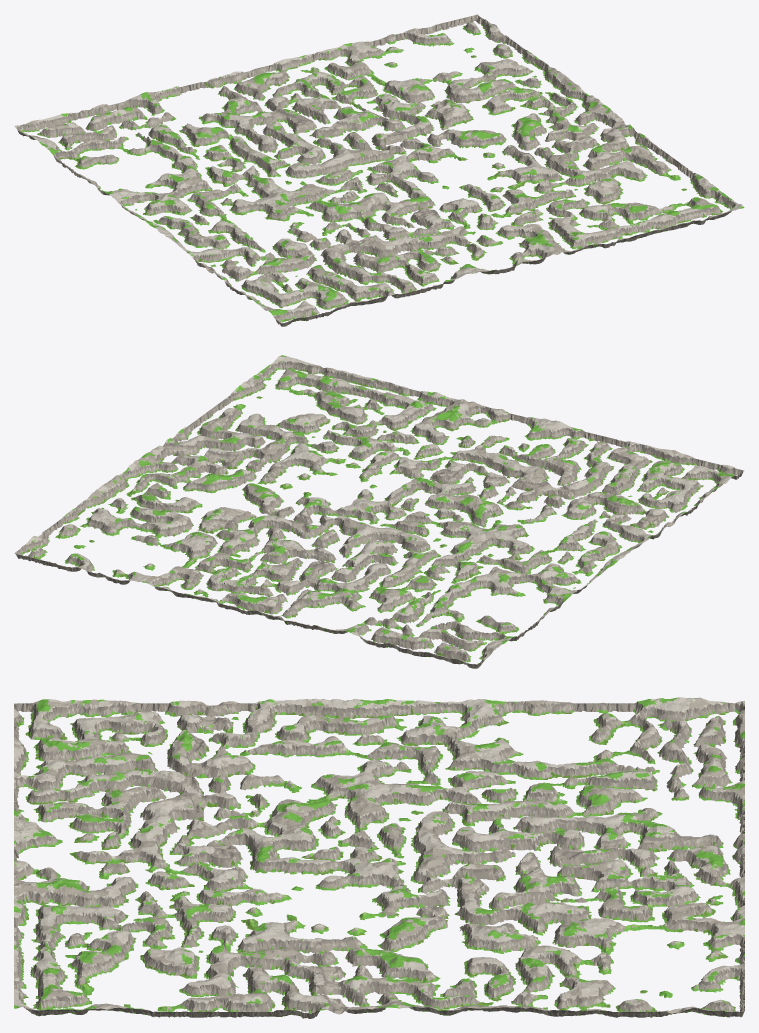
The model's file is Dungeon-2B-Relief.fbx.
The picture shows the model from 3 angles, top to bottom: view 1: azimuth 30°, elevation 25°; view 2: azimuth 150°, elevation 25°; view 3: azimuth 270°, elevation 25°; orthographic projection. The views are drawn at different scales.
Parts seen in each view (by area): view 1: Dungeon-2B-Relief-c72, Dungeon-2B-Relief-c60, Dungeon-2B-Relief-c74, Dungeon-2B-Relief-c31, Dungeon-2B-Relief-c10, Dungeon-2B-Relief-c44, Dungeon-2B-Relief-c21, Dungeon-2B-Relief-c34, Dungeon-2B-Relief-c17, Dungeon-2B-Relief-c47, Dungeon-2B-Relief-c32, Dungeon-2B-Relief-c55 (+50 smaller); view 2: Dungeon-2B-Relief-c73, Dungeon-2B-Relief-c70, Dungeon-2B-Relief-c00, Dungeon-2B-Relief-c60, Dungeon-2B-Relief-c74, Dungeon-2B-Relief-c10, Dungeon-2B-Relief-c63, Dungeon-2B-Relief-c11, Dungeon-2B-Relief-c55, Dungeon-2B-Relief-c44, Dungeon-2B-Relief-c72, Dungeon-2B-Relief-c56 (+51 smaller); view 3: Dungeon-2B-Relief-c36, Dungeon-2B-Relief-c03, Dungeon-2B-Relief-c72, Dungeon-2B-Relief-c10, Dungeon-2B-Relief-c07, Dungeon-2B-Relief-c01, Dungeon-2B-Relief-c32, Dungeon-2B-Relief-c04, Dungeon-2B-Relief-c35, Dungeon-2B-Relief-c02, Dungeon-2B-Relief-c21, Dungeon-2B-Relief-c23 (+52 smaller).
Part boxes in pixels (x1=…): Dungeon-2B-Relief-c72: x1=587, y1=135, x2=677, y2=178; Dungeon-2B-Relief-c60: x1=596, y1=203, x2=686, y2=241; Dungeon-2B-Relief-c74: x1=520, y1=85, x2=610, y2=130; Dungeon-2B-Relief-c31: x1=389, y1=218, x2=472, y2=257; Dungeon-2B-Relief-c10: x1=306, y1=270, x2=396, y2=310; Dungeon-2B-Relief-c44: x1=352, y1=129, x2=437, y2=172; Dungeon-2B-Relief-c21: x1=331, y1=232, x2=422, y2=272; Dungeon-2B-Relief-c34: x1=288, y1=144, x2=377, y2=185; Dungeon-2B-Relief-c17: x1=72, y1=99, x2=157, y2=140; Dungeon-2B-Relief-c47: x1=246, y1=55, x2=336, y2=97; Dungeon-2B-Relief-c32: x1=355, y1=197, x2=439, y2=234; Dungeon-2B-Relief-c55: x1=376, y1=91, x2=461, y2=130; Dungeon-2B-Relief-c73: x1=148, y1=429, x2=238, y2=473; Dungeon-2B-Relief-c70: x1=248, y1=355, x2=338, y2=396; Dungeon-2B-Relief-c00: x1=654, y1=455, x2=744, y2=497; Dungeon-2B-Relief-c60: x1=312, y1=370, x2=396, y2=413; Dungeon-2B-Relief-c74: x1=115, y1=452, x2=201, y2=498; Dungeon-2B-Relief-c10: x1=596, y1=441, x2=687, y2=481; Dungeon-2B-Relief-c63: x1=209, y1=448, x2=296, y2=484; Dungeon-2B-Relief-c11: x1=562, y1=465, x2=652, y2=506; Dungeon-2B-Relief-c55: x1=197, y1=508, x2=287, y2=550; Dungeon-2B-Relief-c44: x1=288, y1=497, x2=377, y2=540; Dungeon-2B-Relief-c72: x1=182, y1=407, x2=265, y2=450; Dungeon-2B-Relief-c56: x1=178, y1=532, x2=249, y2=573; Dungeon-2B-Relief-c36: x1=561, y1=815, x2=654, y2=864; Dungeon-2B-Relief-c03: x1=287, y1=698, x2=379, y2=745; Dungeon-2B-Relief-c72: x1=196, y1=970, x2=289, y2=1017; Dungeon-2B-Relief-c10: x1=14, y1=738, x2=106, y2=787; Dungeon-2B-Relief-c07: x1=652, y1=697, x2=744, y2=748; Dungeon-2B-Relief-c01: x1=104, y1=700, x2=197, y2=747; Dungeon-2B-Relief-c32: x1=196, y1=813, x2=289, y2=864; Dungeon-2B-Relief-c04: x1=379, y1=699, x2=471, y2=747; Dungeon-2B-Relief-c35: x1=469, y1=816, x2=562, y2=864; Dungeon-2B-Relief-c02: x1=196, y1=699, x2=289, y2=749; Dungeon-2B-Relief-c21: x1=104, y1=778, x2=197, y2=826; Dungeon-2B-Relief-c23: x1=287, y1=776, x2=379, y2=825.
Bounding box in the file's own units: 132 × 2.85 × 132.
